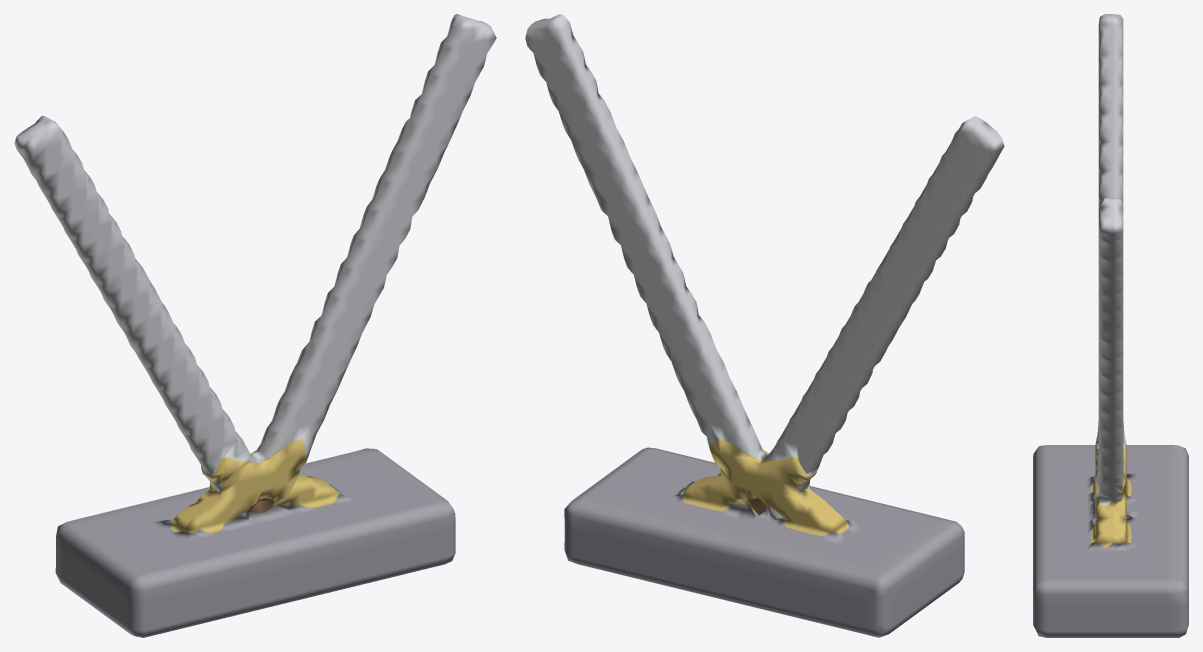
File: swords.glb
The picture shows the model from 3 angles, left to right: view 1: azimuth 30°, elevation 25°; view 2: azimuth 150°, elevation 25°; view 3: azimuth 270°, elevation 25°; orthographic projection. The views are drawn at different scales.
Visible parts, largest first — view 1: swords; view 2: swords; view 3: swords.
Boxes of the visible parts, x1,y1,x2,y2 form: swords: (14,14,496,637); swords: (525,14,1004,637); swords: (1033,14,1188,637).
Size of the model in its own units: 64.22 by 68.72 by 20.
